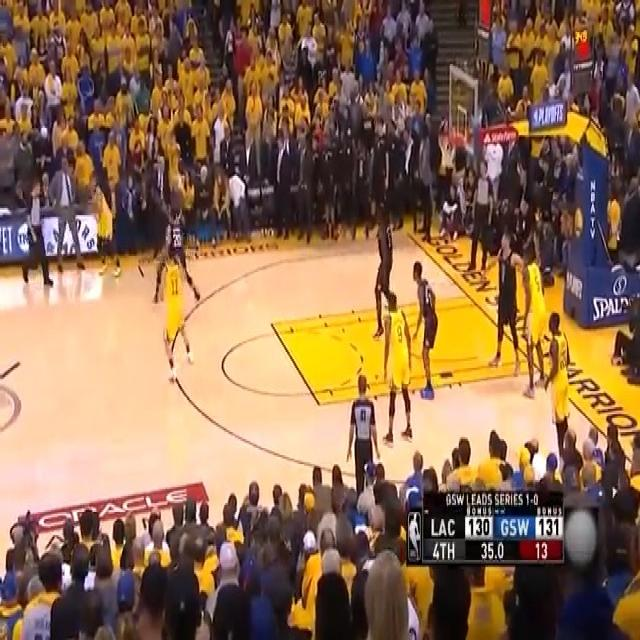hoop: (438, 130, 458, 171)
